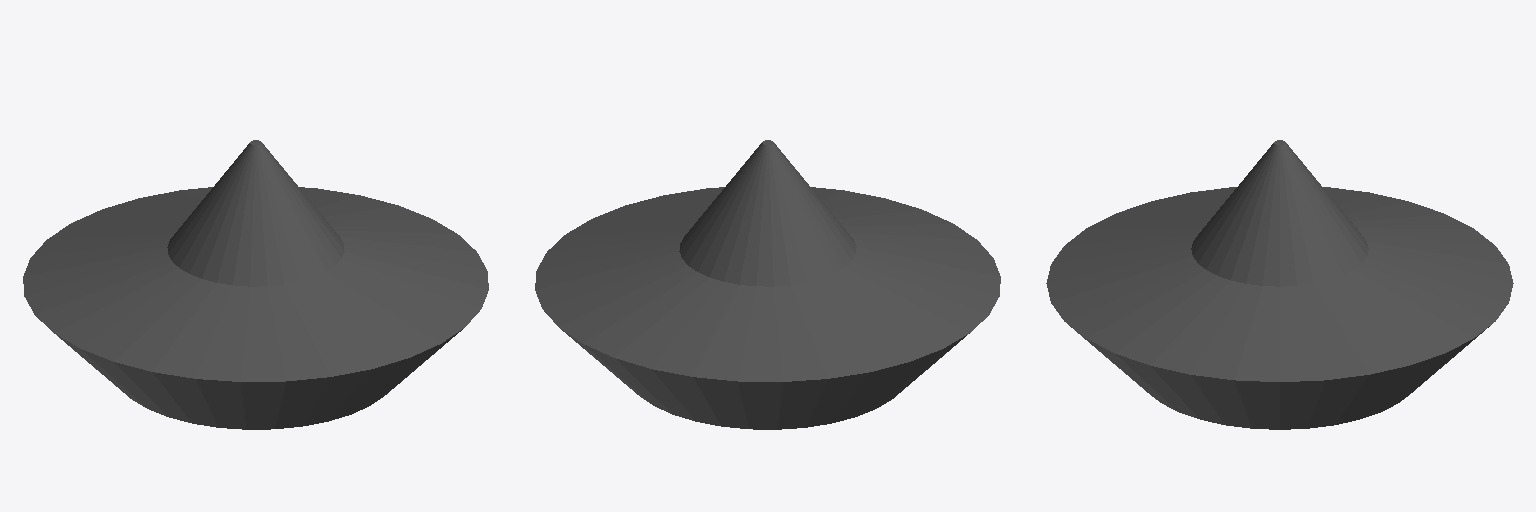
The model's file is ufo3.obj.
3 views of the same model, side by side, from view 1: azimuth 30°, elevation 25°; view 2: azimuth 150°, elevation 25°; view 3: azimuth 270°, elevation 25° (orthographic).
Parts seen in each view (by area): view 1: Cylinder; view 2: Cylinder; view 3: Cylinder.
Part boxes in pixels (left/top/right/bottom): Cylinder: left=23, top=140, right=488, bottom=429; Cylinder: left=535, top=140, right=1000, bottom=429; Cylinder: left=1046, top=140, right=1513, bottom=429.
Size of the model in its own units: 2 by 1.07 by 2.